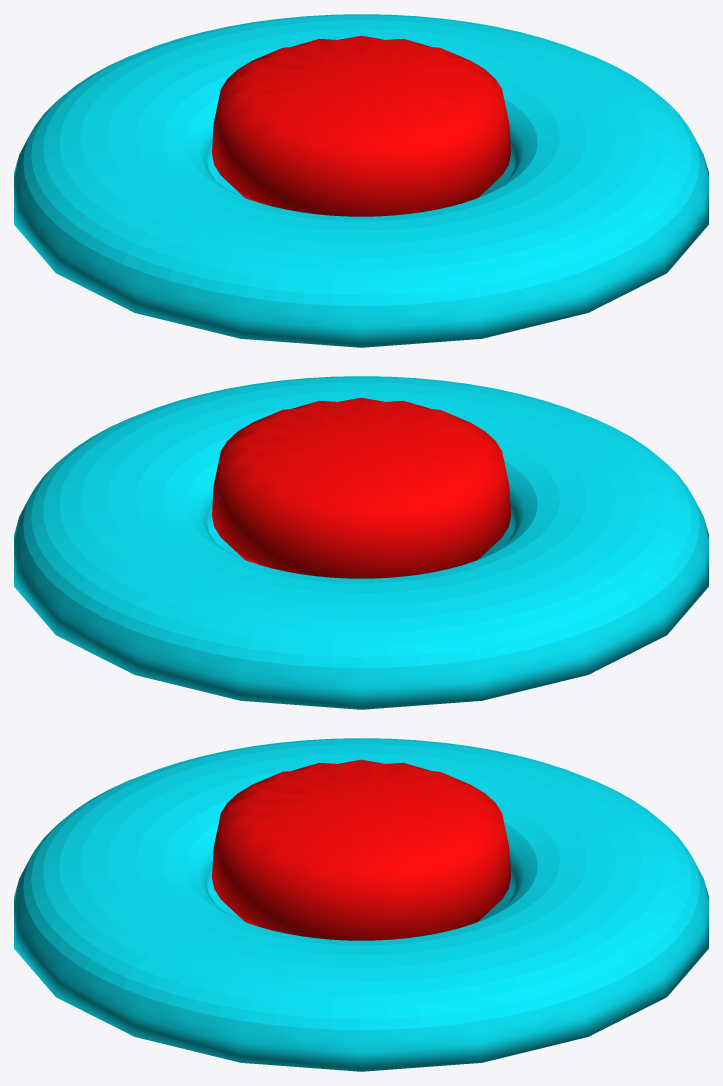
Rendered from Lichtknop.FBX.
3 views of the same model, one above another, from view 1: azimuth 30°, elevation 25°; view 2: azimuth 150°, elevation 25°; view 3: azimuth 270°, elevation 25° (orthographic).
Visible parts, largest first — view 1: lichtding, knop; view 2: lichtding, knop; view 3: lichtding, knop.
Part boxes in pixels (<box>): lichtding: <box>14,14,708,347</box>; knop: <box>212,35,510,216</box>; lichtding: <box>14,376,708,709</box>; knop: <box>212,397,510,578</box>; lichtding: <box>14,738,708,1071</box>; knop: <box>212,759,510,940</box>.
Bounding box in the file's own units: 7.87 × 1.49 × 7.75.
